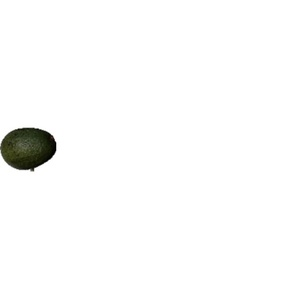abacate: (2, 126, 57, 172)
